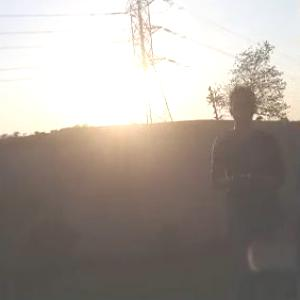follow: (206, 81, 292, 299)
